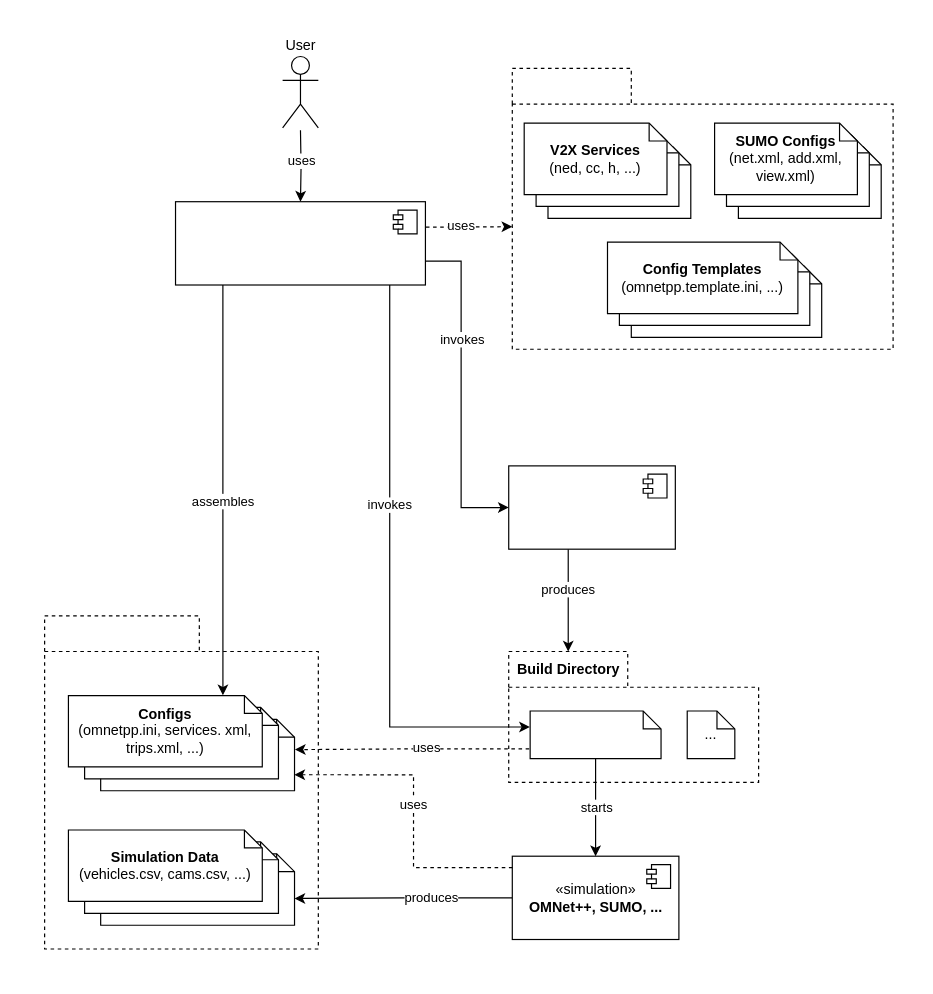
Some shapes in this 933 by 994 pixel diagram are drawn without their labels. The box of each missing label's shape, as (x1, y1, x2, y2) in pixels:
Resources: (511, 67, 893, 349)
run_artery.sh: (529, 710, 661, 759)
Simulation Directory: (43, 615, 318, 949)
V2X Application: (174, 201, 425, 285)
«build tool» CMake: (508, 465, 675, 549)
